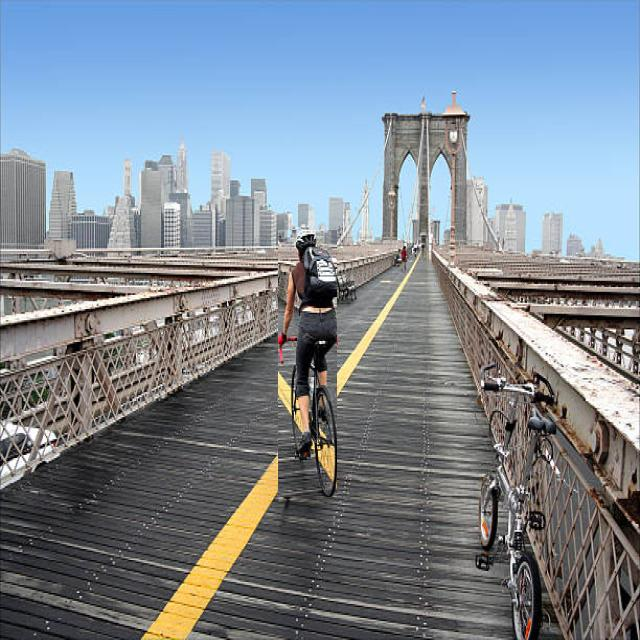bicycle: (475, 364, 560, 639), (279, 230, 337, 497)
